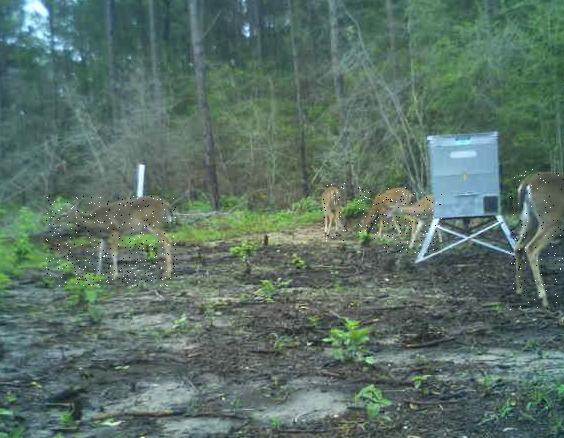Deer: (46, 196, 177, 286), (510, 169, 564, 312), (379, 192, 441, 253), (357, 188, 411, 242), (321, 182, 346, 242)
